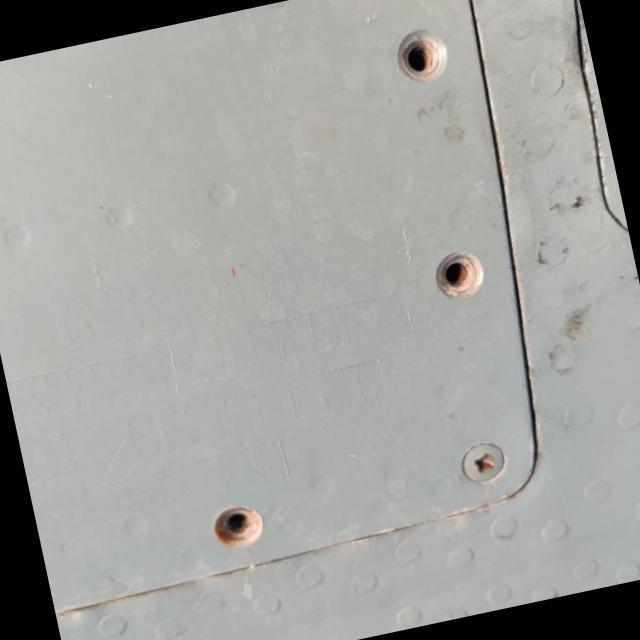Fastener Damage: (168, 452, 316, 592), (390, 205, 534, 348), (355, 0, 498, 124)
